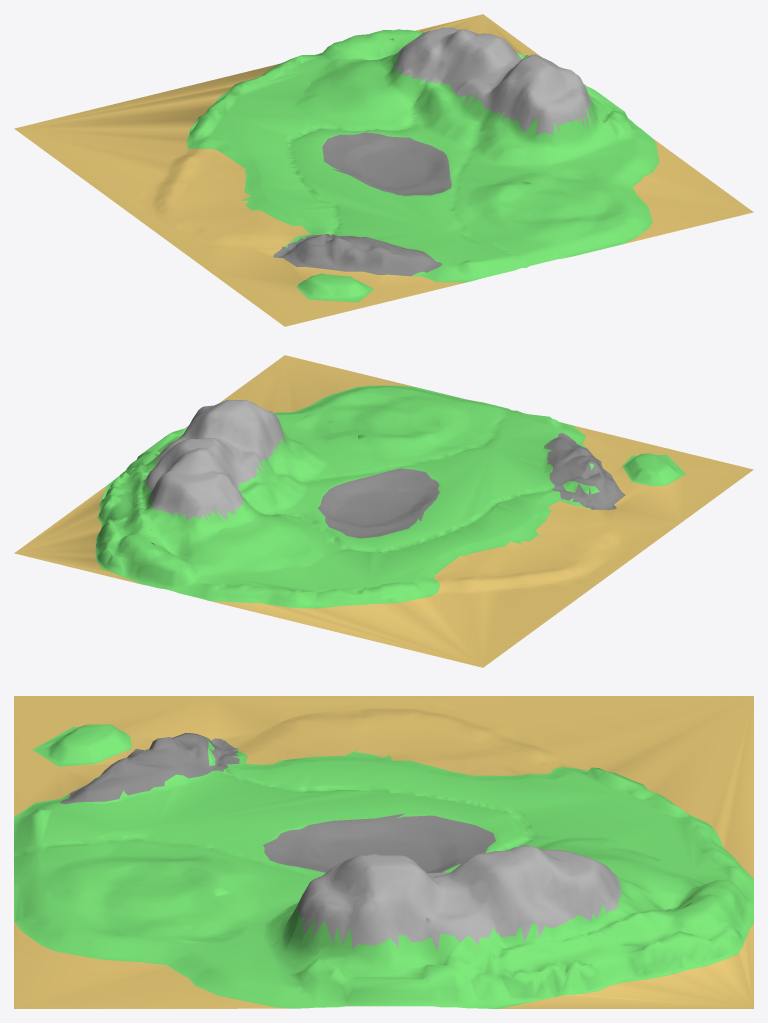
File: fox island.glb
3 views of the same model, one above another, from view 1: azimuth 30°, elevation 25°; view 2: azimuth 150°, elevation 25°; view 3: azimuth 270°, elevation 25° (orthographic). The views are drawn at different scales.
Parts seen in each view (by area): view 1: Plane; view 2: Plane; view 3: Plane.
Boxes of the visible parts, x1,y1,x2,y2 form: Plane: (14,14,753,326); Plane: (14,355,753,667); Plane: (14,696,753,1008).
Size of the model in its own units: 2 by 0.2914 by 2.
